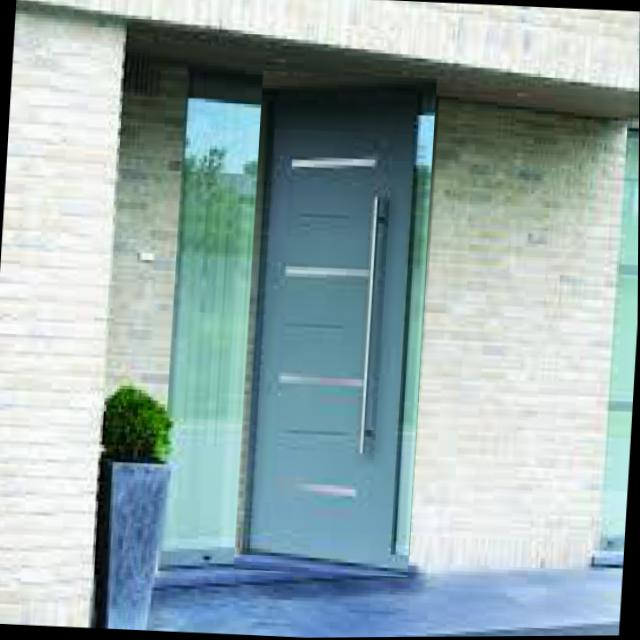close: (234, 71, 438, 580)
